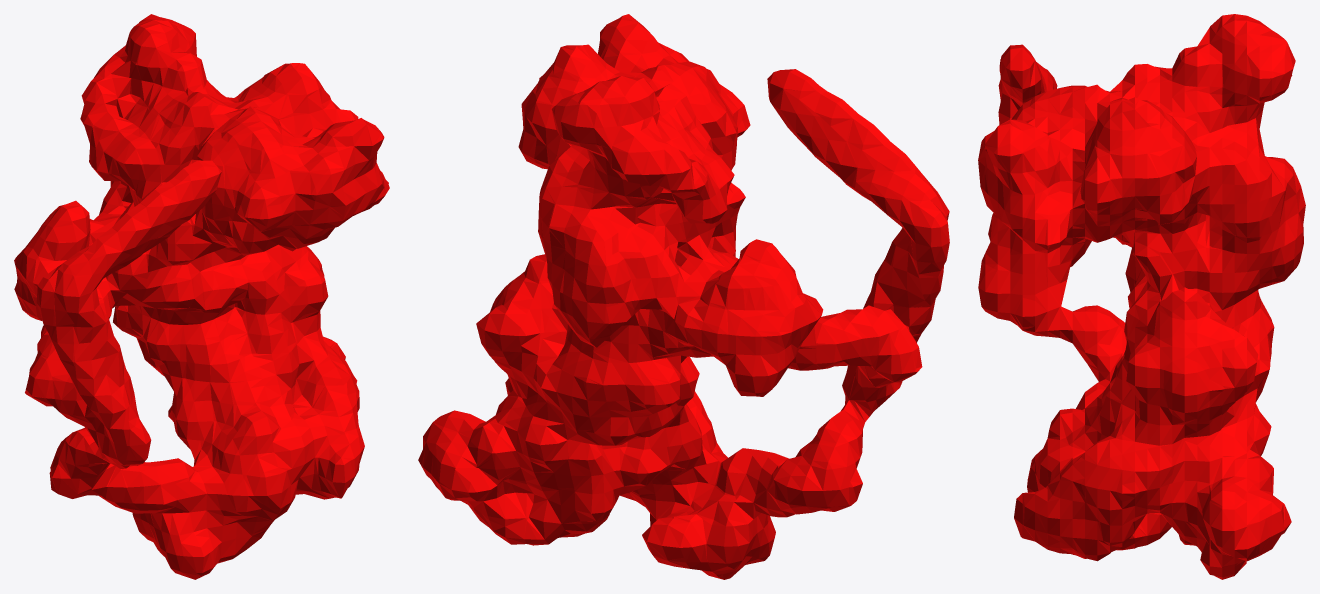
File: Myosin_9_coarse.dae
3 renders of one model, left to right at view 1: azimuth 30°, elevation 25°; view 2: azimuth 150°, elevation 25°; view 3: azimuth 270°, elevation 25°, orthographic. The views are drawn at different scales.
Visible parts, largest first — view 1: Myosin_9; view 2: Myosin_9; view 3: Myosin_9.
Part boxes in pixels (box(x1,y1,x2,y2)): Myosin_9: box(14, 14, 389, 579); Myosin_9: box(418, 14, 949, 579); Myosin_9: box(978, 14, 1305, 579).
Bounding box in the file's own units: 140 × 168 × 92.33.
